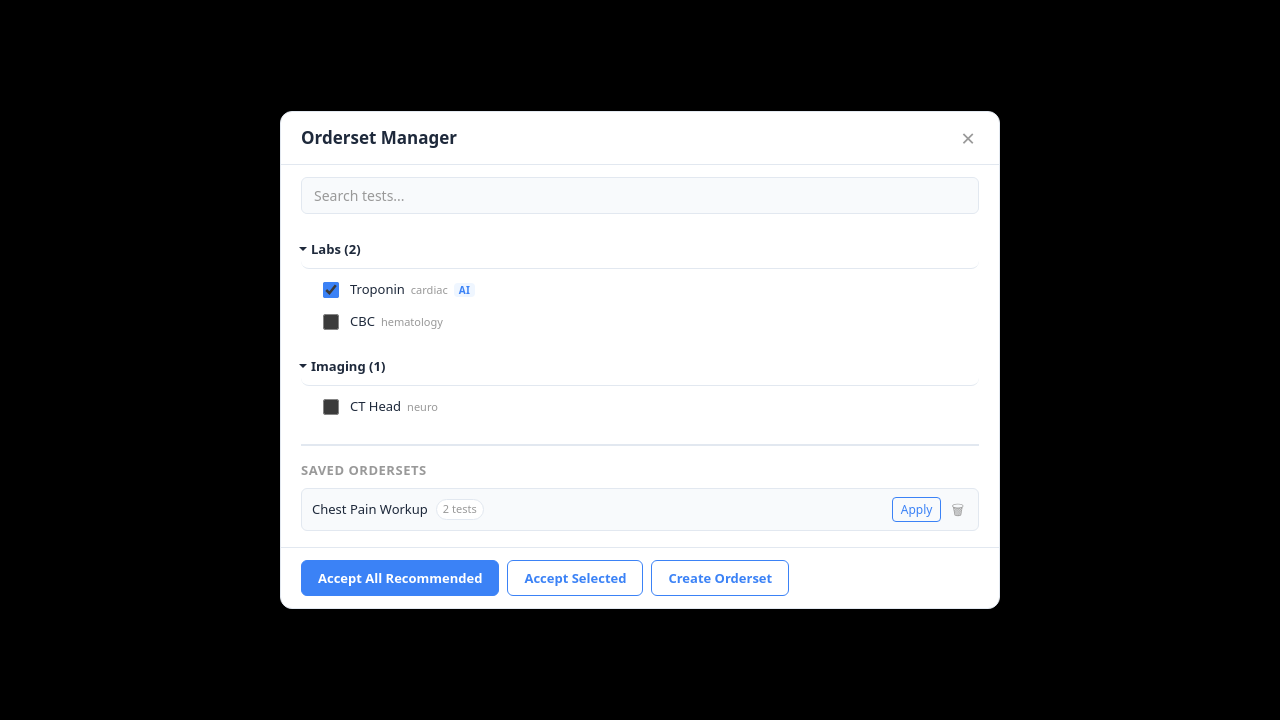
Scenario: OrdersetManager › [Fix 2] shows error for duplicate orderset name
The width and height of the screenshot is (1280, 720).
Click the button "Create Orderset". click: (720, 578)
box: x1=651 y1=560 x2=789 y2=596
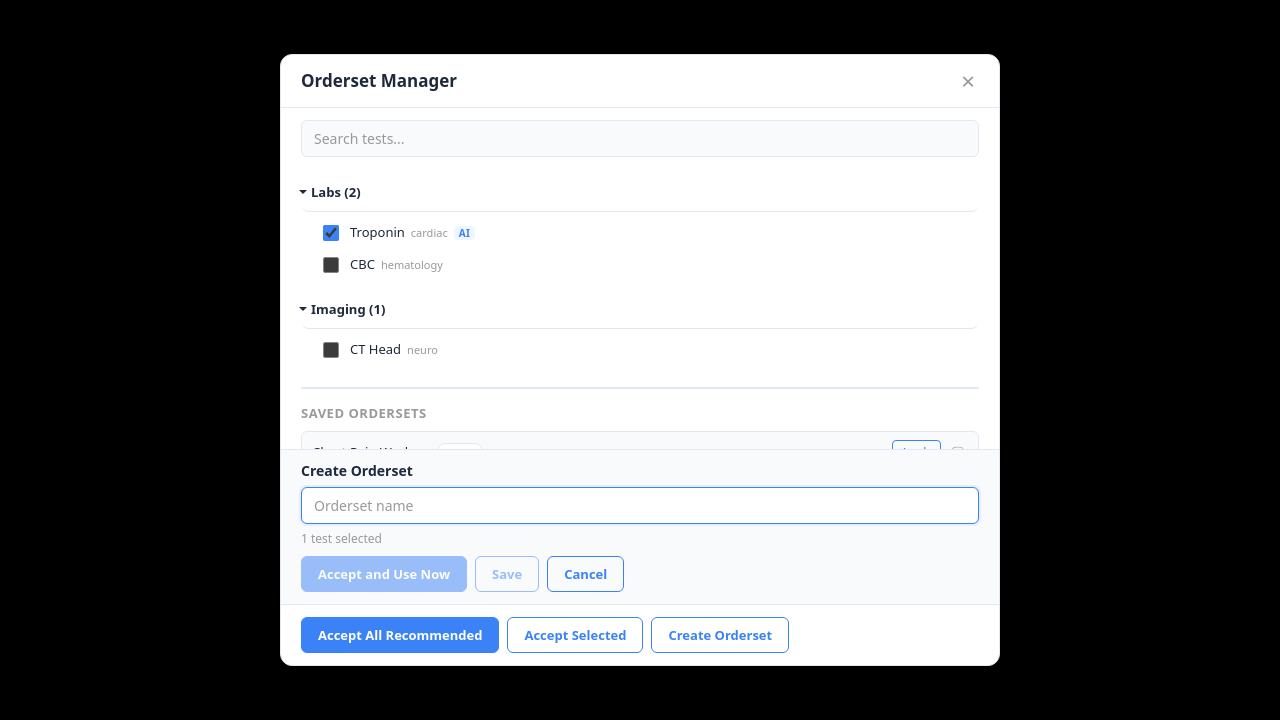
Type "Chest Pain Workup" into the field with placeholder "Orderset name". click: (640, 506)
box: x1=301 y1=487 x2=979 y2=524
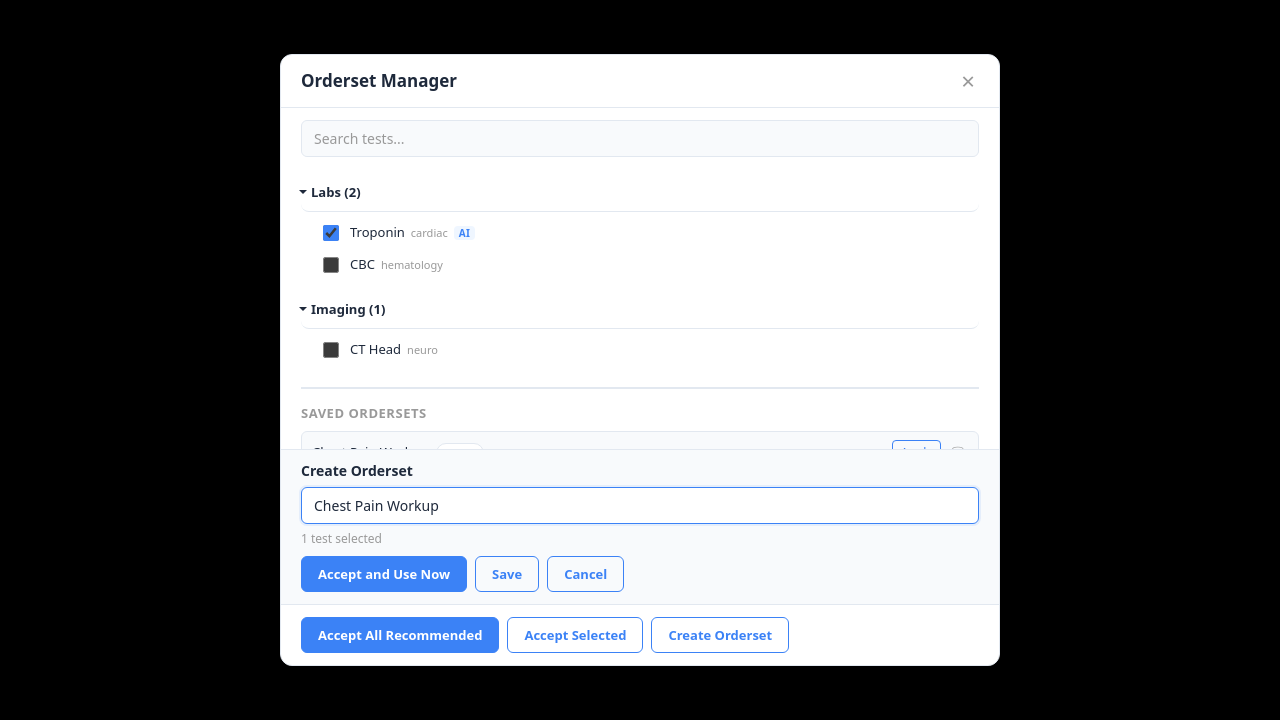
Click the button "Save". click: (507, 574)
box: x1=475 y1=556 x2=539 y2=592
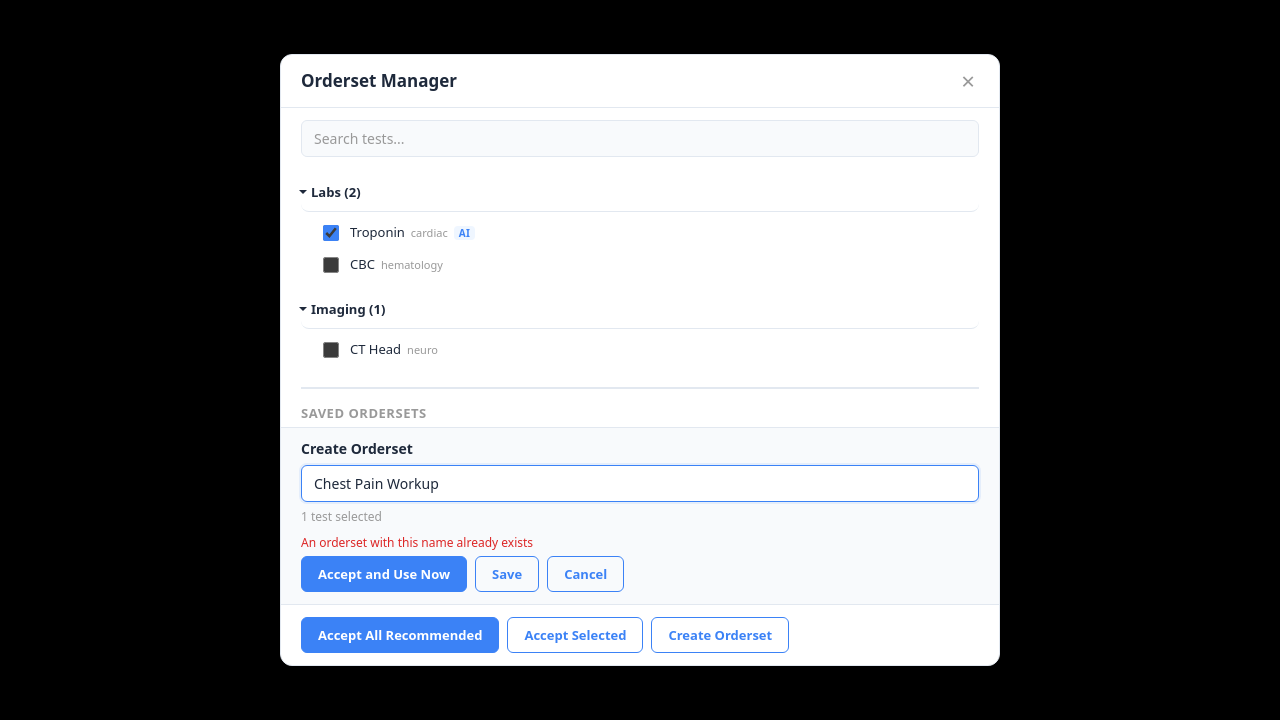
Expected: the text "An orderset with this name already exists" is shown, x1=301 y1=534 x2=533 y2=551
